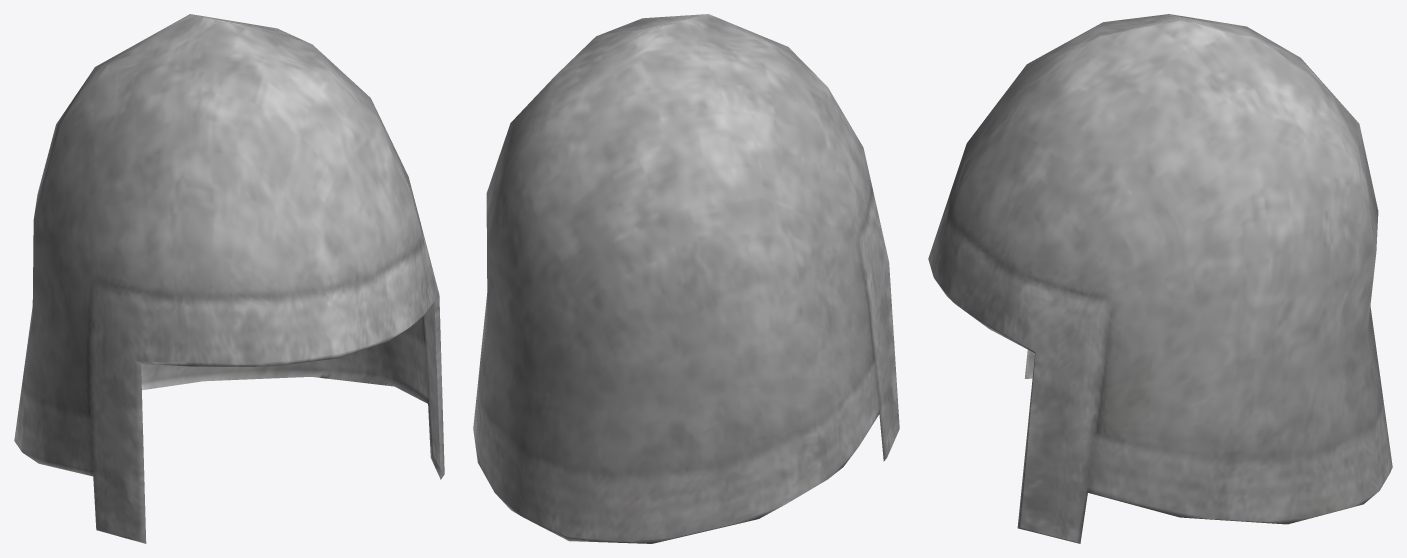
File: rider-helmet-slice-mediumcavalry.glb
3 views of the same model, side by side, from view 1: azimuth 30°, elevation 25°; view 2: azimuth 150°, elevation 25°; view 3: azimuth 270°, elevation 25° (orthographic). The views are drawn at different scales.
Size of the model in its own units: 0.2497 by 0.2985 by 0.2771.
1 material, 1 textured.
